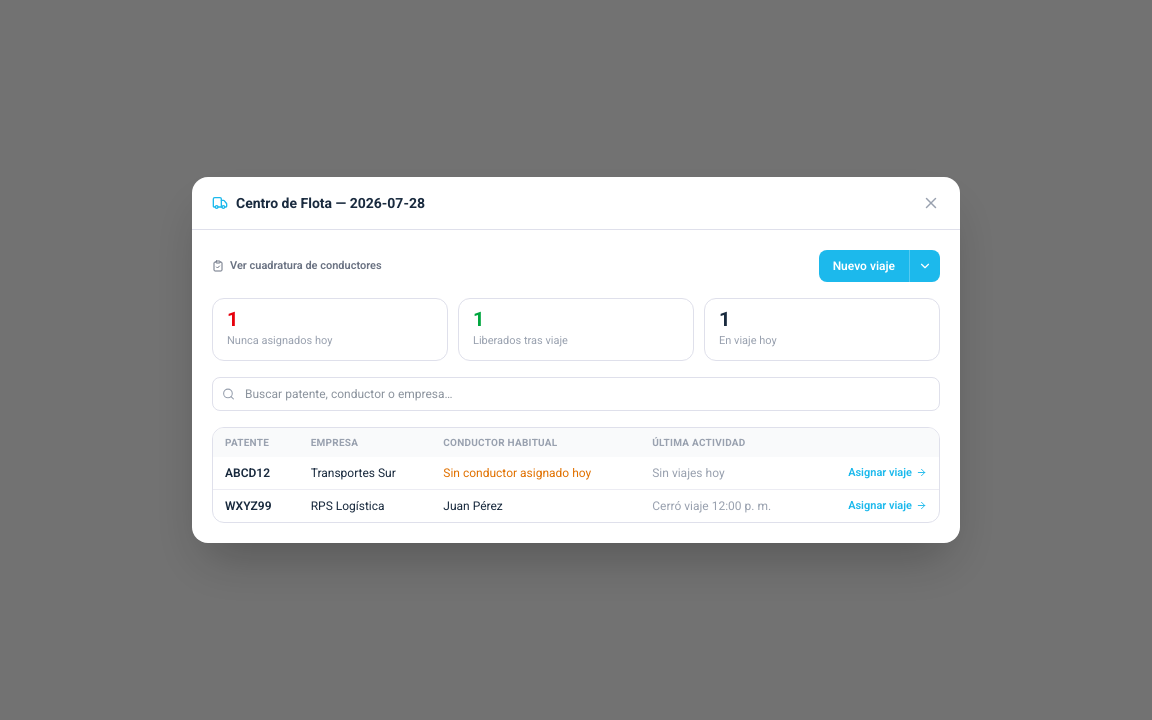
Test: FleetCenterDialog › clickear "En viaje hoy" muestra el equipo ocupado con datos reales del viaje
Expected: the text "ABCD12" is shown, [213, 457, 299, 489]
Click the button "1 En viaje hoy" at (822, 329), box [704, 298, 940, 361]
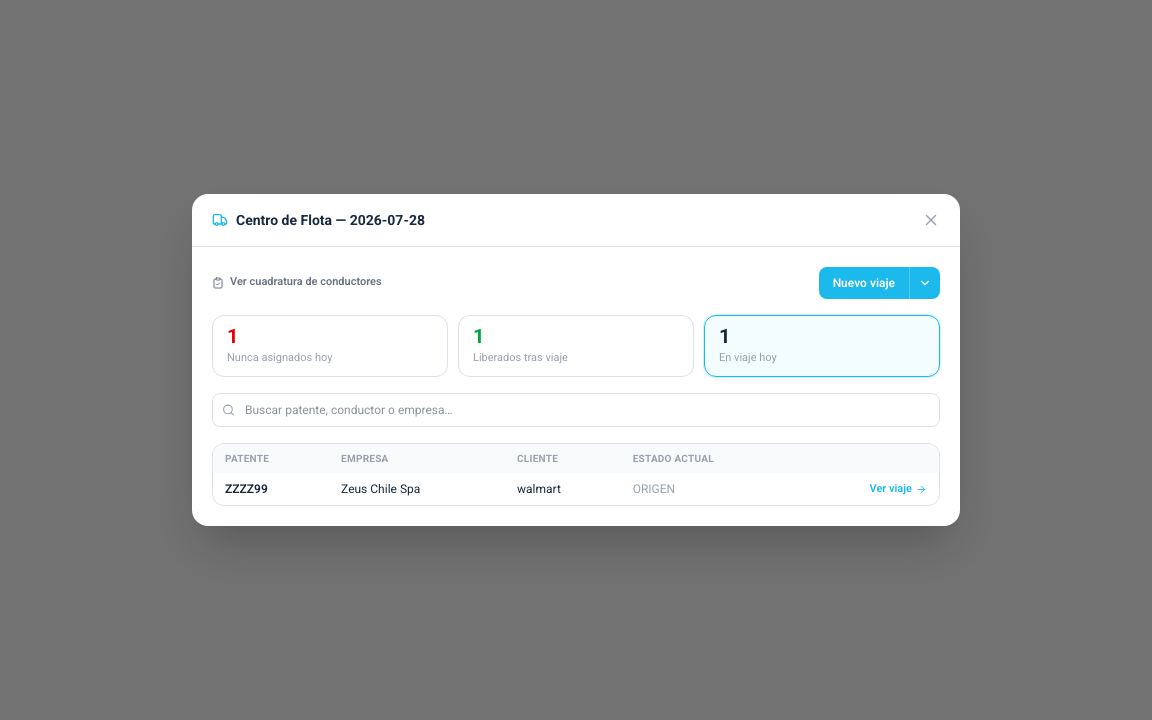
Expected: the text "ZZZZ99" is shown, [213, 473, 329, 505]
Expected: the text "walmart" is shown, [505, 473, 621, 505]
Expected: the text "ORIGEN" is shown, [621, 473, 800, 505]
